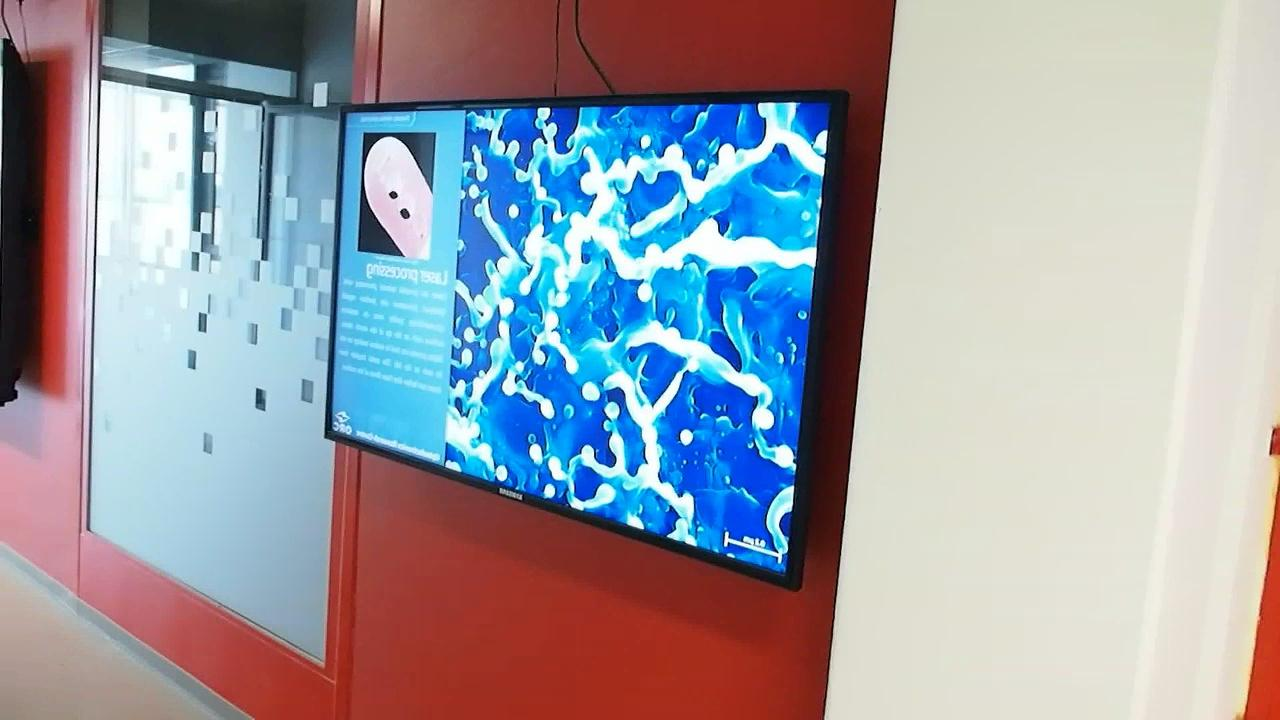screen: (318, 86, 853, 596)
